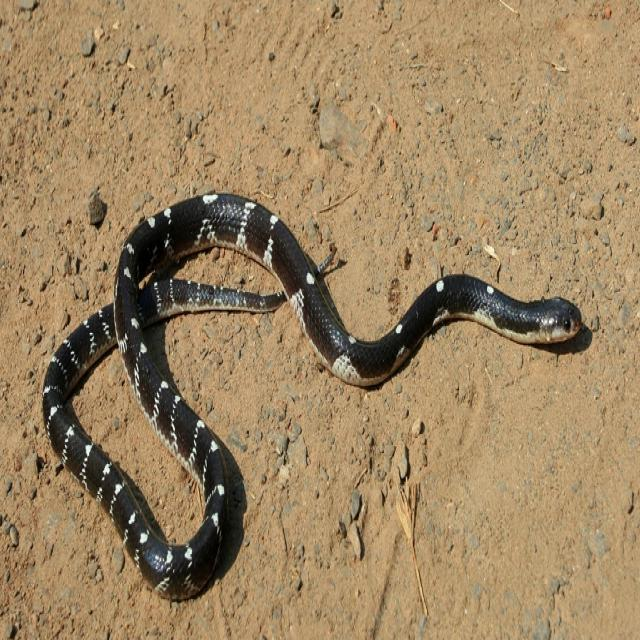Snake: (41, 188, 582, 600)
